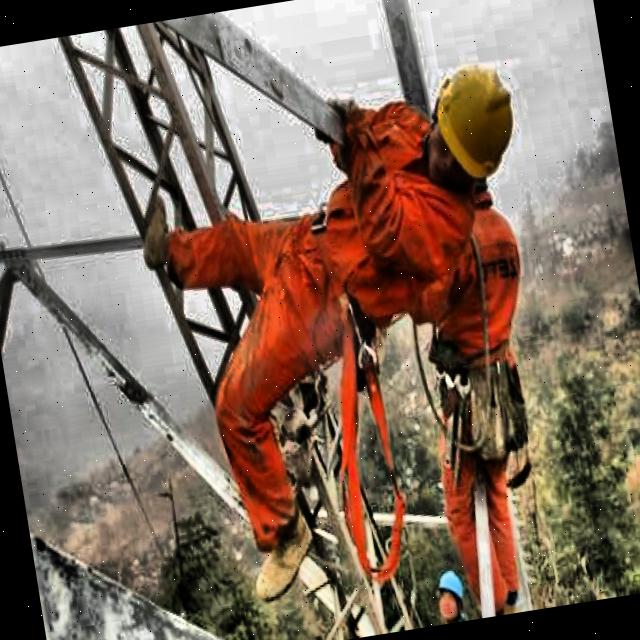helmet: (413, 45, 539, 204), (432, 561, 468, 621)
